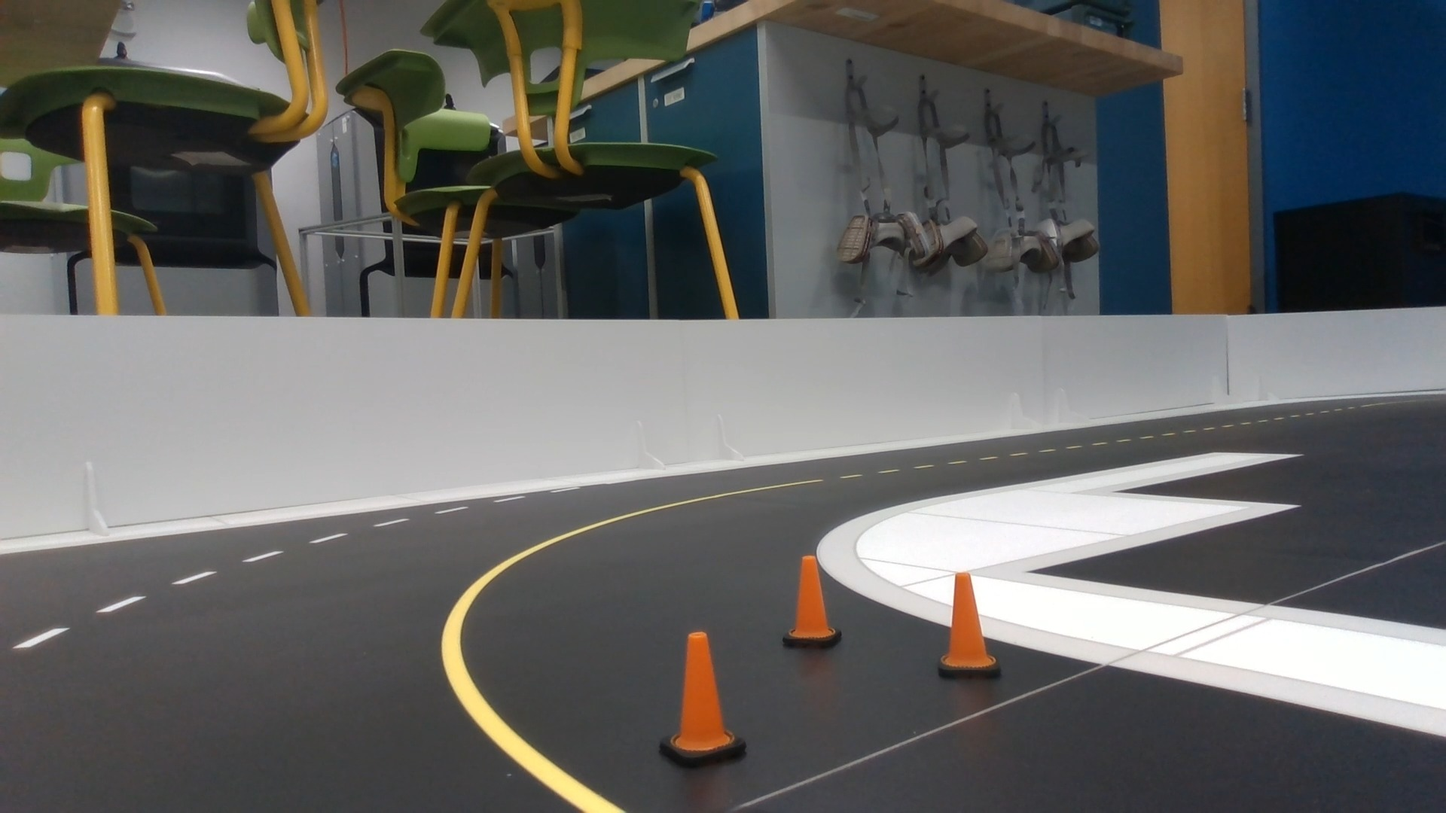Traffic Cone: (660, 633, 745, 766), (939, 574, 999, 677), (782, 556, 840, 647)
